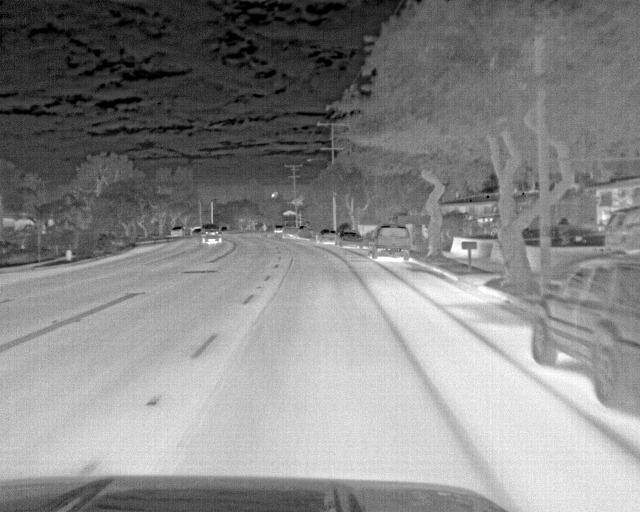car: (530, 254, 639, 408), (601, 207, 639, 252), (368, 224, 413, 260), (334, 229, 365, 249), (315, 228, 338, 247), (201, 226, 224, 244), (169, 226, 188, 239), (271, 224, 285, 236)
